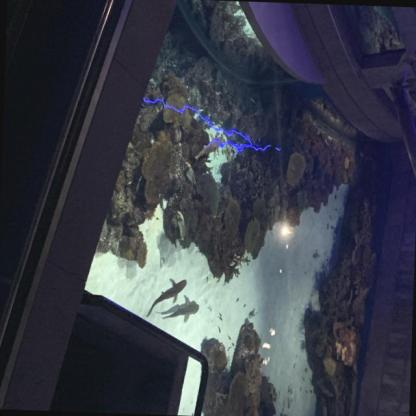fish: (174, 210, 186, 240), (184, 161, 194, 182), (175, 120, 181, 135)
shark: (146, 276, 187, 320), (163, 294, 200, 324), (195, 134, 223, 162)
